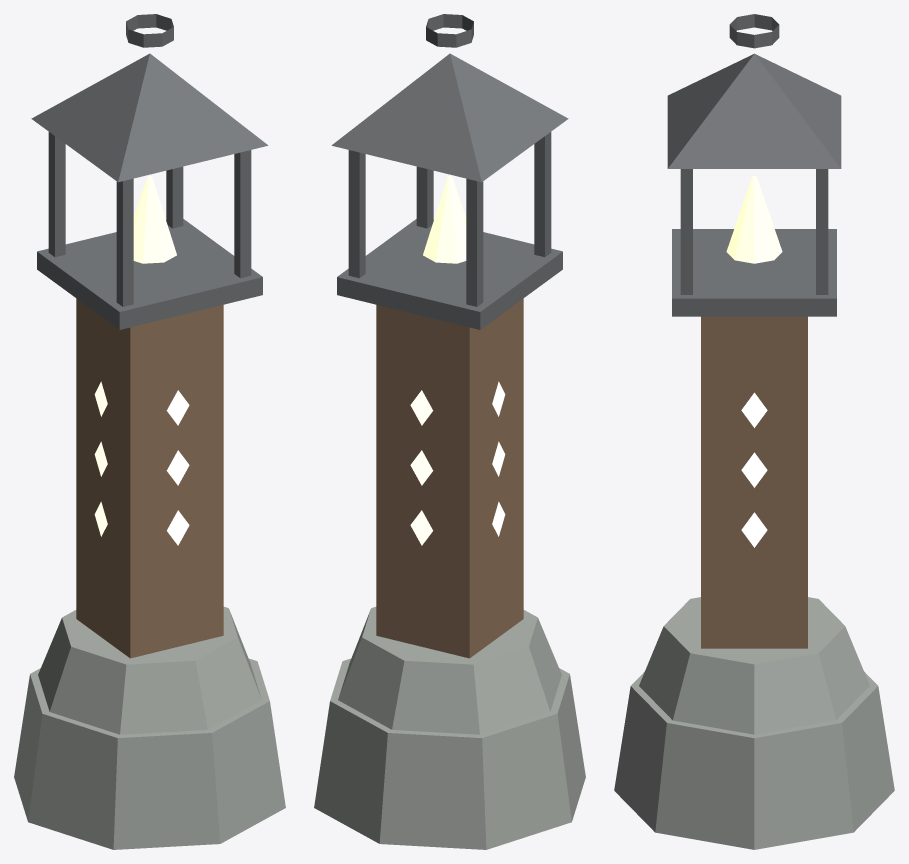
The model's file is RunePathLantern.fbx.
3 renders of one model, left to right at view 1: azimuth 30°, elevation 25°; view 2: azimuth 150°, elevation 25°; view 3: azimuth 270°, elevation 25°, orthographic.
Visible parts, largest first — view 1: Lantern_Stone_Base, Lantern_Wood_Post, Lantern_Iron_Cage, Lantern_Flame, Lantern_Runes; view 2: Lantern_Stone_Base, Lantern_Wood_Post, Lantern_Iron_Cage, Lantern_Flame, Lantern_Runes; view 3: Lantern_Stone_Base, Lantern_Wood_Post, Lantern_Iron_Cage, Lantern_Flame, Lantern_Runes.
Boxes of the visible parts, x1,y1,x2,y2 form: Lantern_Stone_Base: (14,606,285,849); Lantern_Wood_Post: (76,298,223,658); Lantern_Iron_Cage: (31,14,268,329); Lantern_Flame: (133,176,176,263); Lantern_Runes: (94,381,189,545); Lantern_Stone_Base: (314,606,585,849); Lantern_Wood_Post: (376,298,523,658); Lantern_Iron_Cage: (331,14,568,329); Lantern_Flame: (423,176,466,263); Lantern_Runes: (410,381,505,545); Lantern_Stone_Base: (614,597,894,849); Lantern_Wood_Post: (701,316,807,648); Lantern_Iron_Cage: (667,14,841,316); Lantern_Flame: (726,176,782,263); Lantern_Runes: (741,392,767,547).
Bounding box in the file's own units: 0.34 × 1.02 × 0.34.
